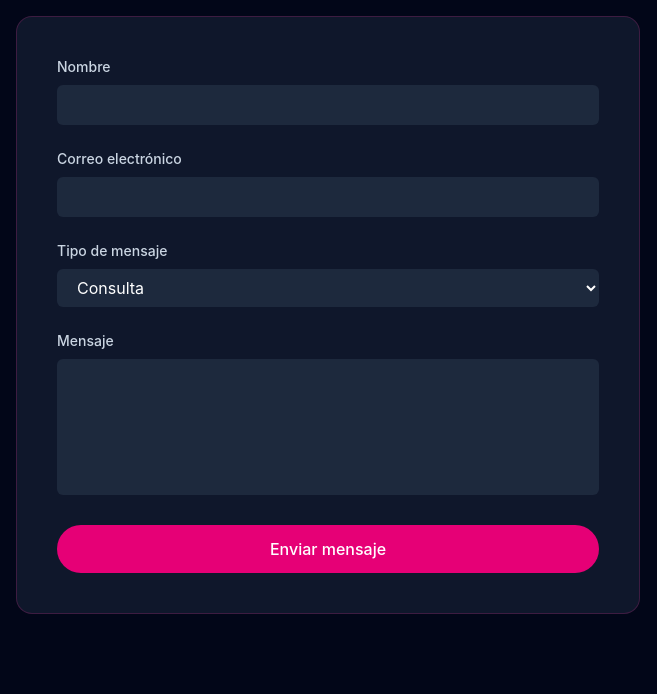
Contact page › shows a validation error when submitting an empty form
(page scrolled)
Click the button "Enviar mensaje" at (328, 549), box [57,525,599,573]
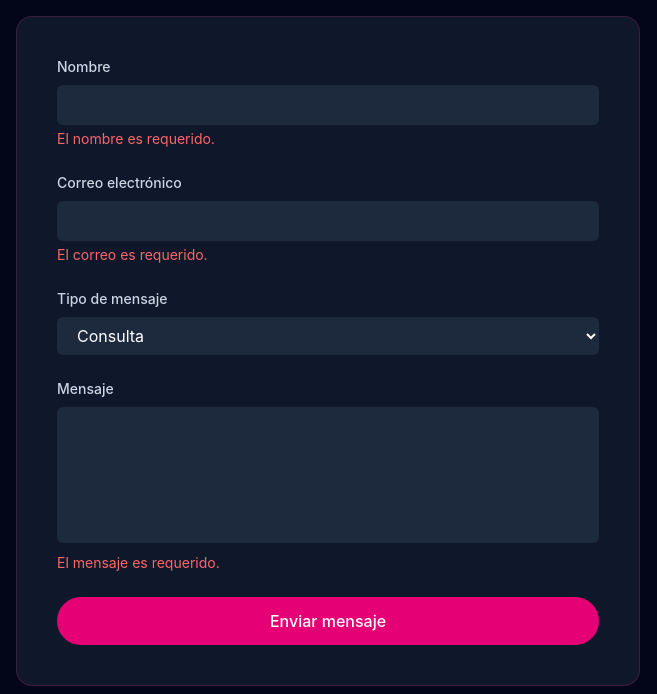
Result: the text "El nombre es requerido." is shown at [57,130,215,147]
